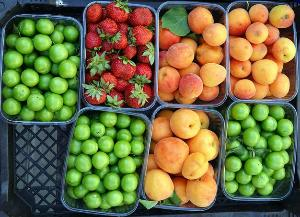apricot: (142, 106, 221, 210), (226, 1, 300, 101), (160, 1, 228, 102)
plum: (0, 20, 80, 118), (76, 108, 148, 207), (228, 103, 294, 201)
strawberry: (82, 3, 158, 108)
